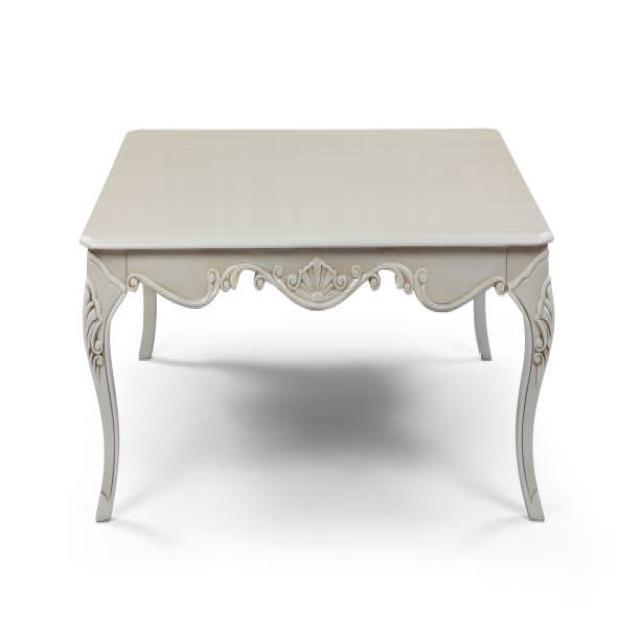table: (78, 125, 556, 526)
